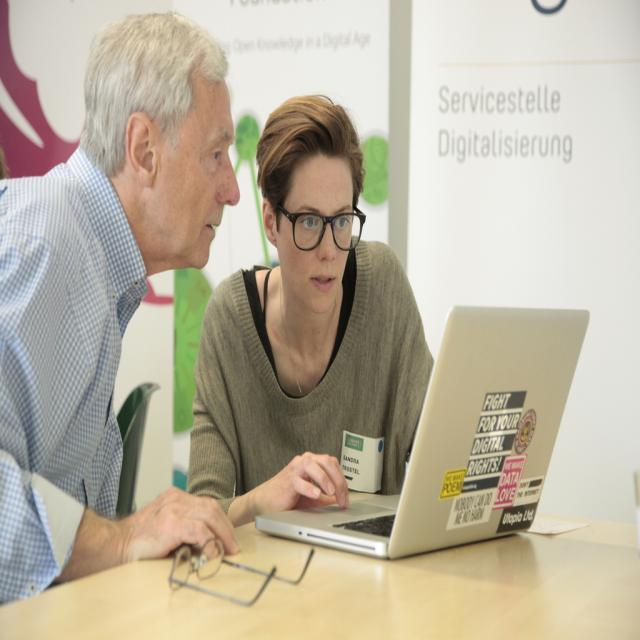Laptop: (255, 300, 588, 559)
